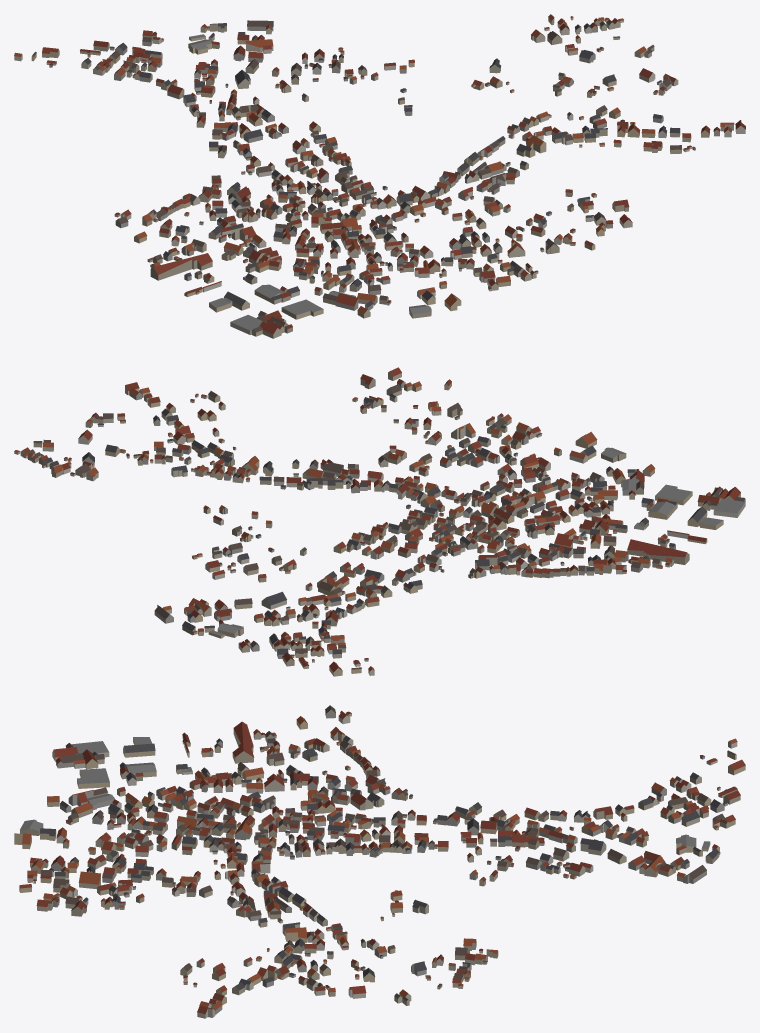
3 renders of one model, top to bottom at view 1: azimuth 30°, elevation 25°; view 2: azimuth 150°, elevation 25°; view 3: azimuth 270°, elevation 25°, orthographic. The views are drawn at different scales.
Parts seen in each view (by area): view 1: buildings; view 2: buildings; view 3: buildings.
Boxes of the visible parts, <box> form: buildings: <box>14,14,745,338</box>; buildings: <box>14,367,745,676</box>; buildings: <box>14,705,745,1018</box>.
Bounding box in the file's own units: 814 × 81.38 × 819.
